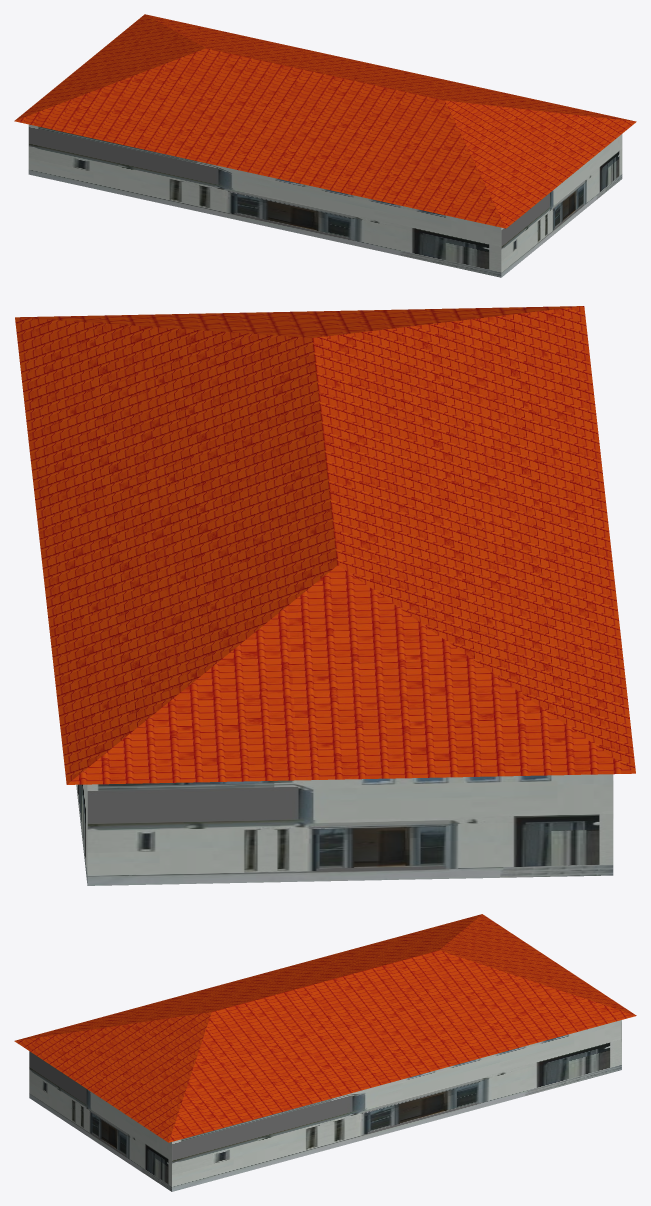
The picture shows the model from 3 angles, top to bottom: view 1: azimuth 30°, elevation 25°; view 2: azimuth 150°, elevation 25°; view 3: azimuth 270°, elevation 25°; orthographic projection. The views are drawn at different scales.
Parts seen in each view (by area): view 1: CityEngineMaterial_12_m, CityEngineMaterial_11_m; view 2: CityEngineMaterial_12_m, CityEngineMaterial_11_m; view 3: CityEngineMaterial_12_m, CityEngineMaterial_11_m.
Boxes of the visible parts, box(x1,y1,x2,y2) form: CityEngineMaterial_12_m: box(14, 14, 636, 228); CityEngineMaterial_11_m: box(28, 124, 622, 277); CityEngineMaterial_12_m: box(15, 306, 635, 784); CityEngineMaterial_11_m: box(76, 774, 613, 885); CityEngineMaterial_12_m: box(14, 914, 636, 1142); CityEngineMaterial_11_m: box(29, 1020, 621, 1191).
Bounding box in the file's own units: 46.35 × 9.71 × 53.33.
